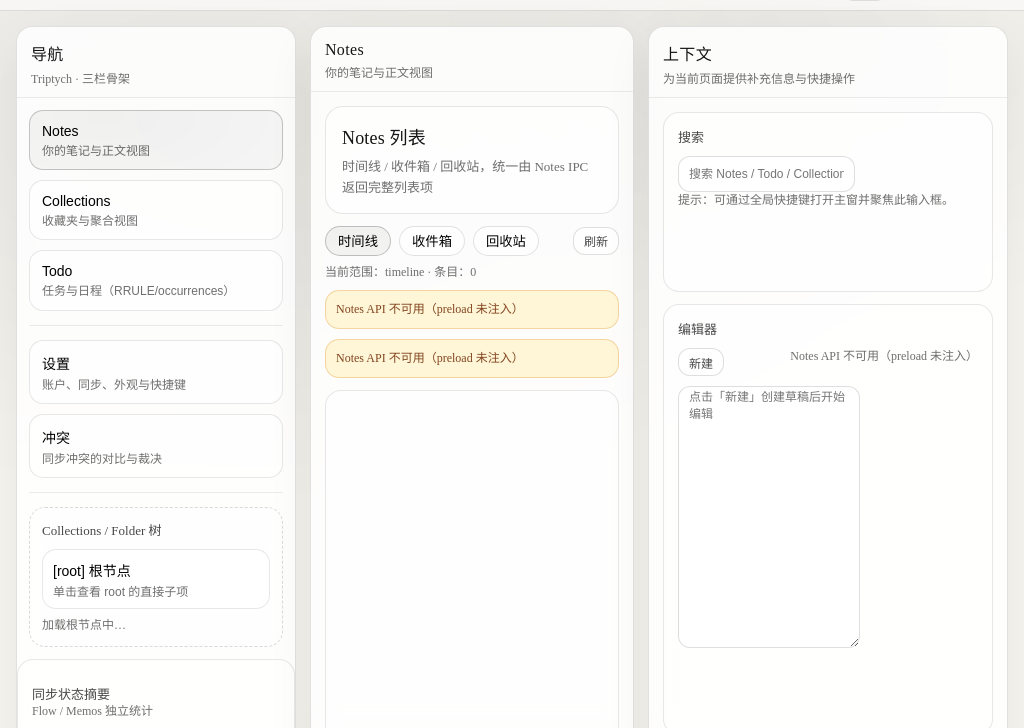
<App /> › 设置页：注册失败必须可见且可定位到对应条目
Click the button with test id "nav-settings". click: click(156, 372)
box: x1=29 y1=340 x2=283 y2=404
(page scrolled)
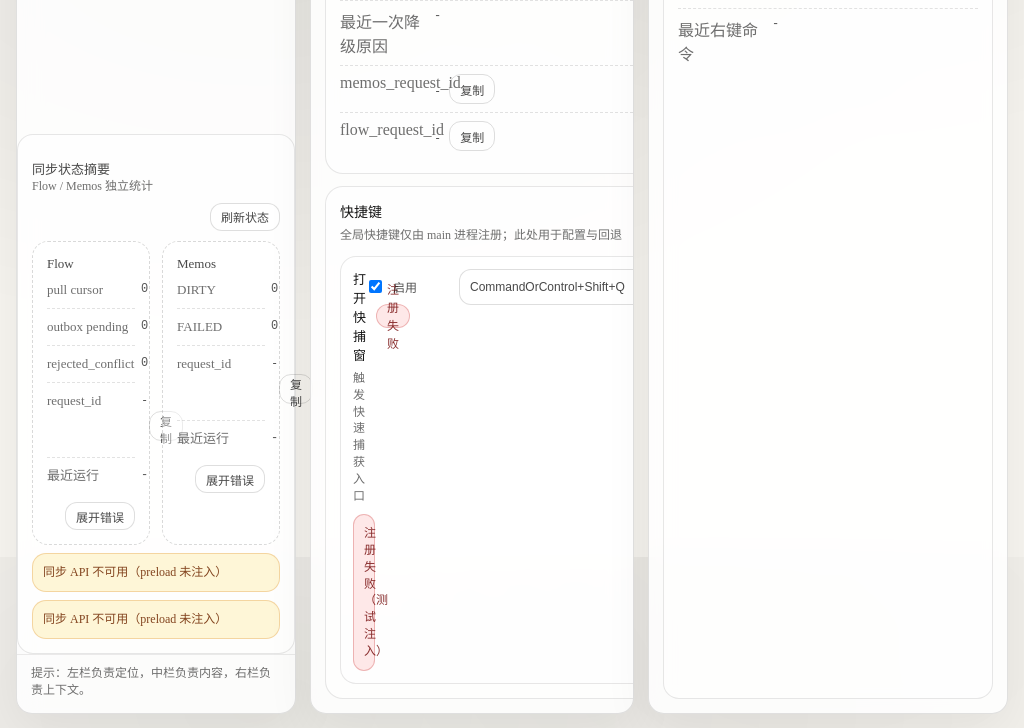
Now the text "注册失败（测试注入）" is shown, box x1=353 y1=514 x2=375 y2=671
